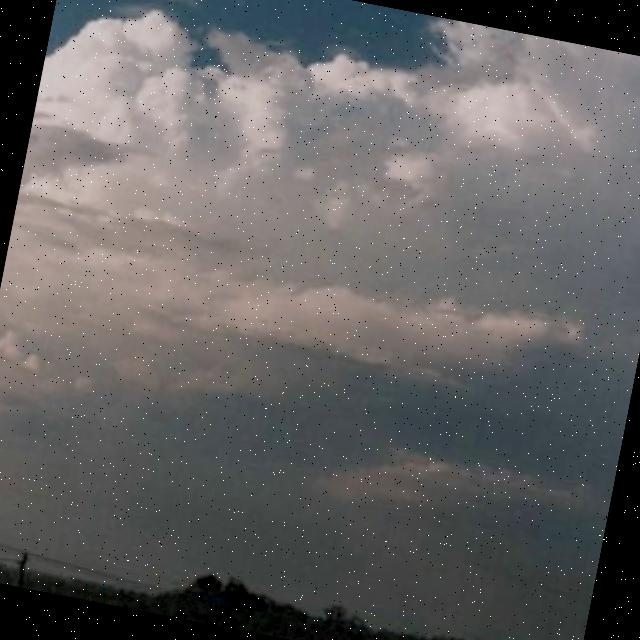St: (1, 1, 640, 536)
